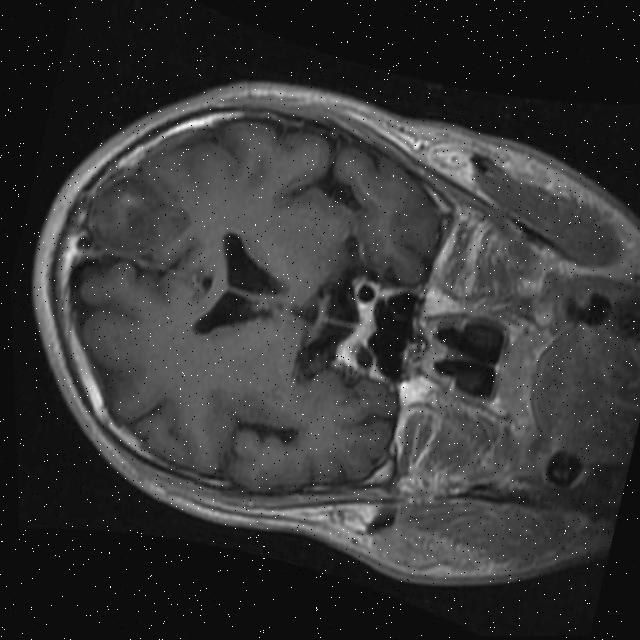Glioma: (78, 165, 200, 268)
